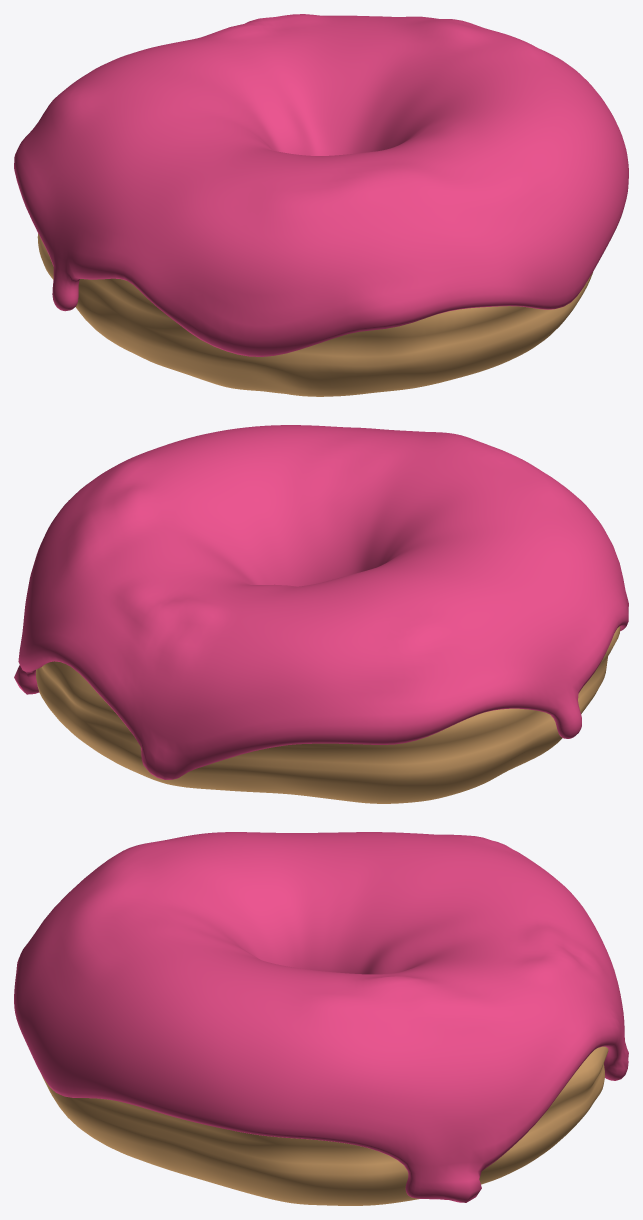
File: donut.fbx
The picture shows the model from 3 angles, top to bottom: view 1: azimuth 30°, elevation 25°; view 2: azimuth 150°, elevation 25°; view 3: azimuth 270°, elevation 25°; orthographic projection.
Visible parts, largest first — view 1: icing, Torus.001; view 2: icing, Torus.001; view 3: icing, Torus.001.
Part boxes in pixels (x1,y1,x2,y2): icing: (14, 14, 628, 356); Torus.001: (37, 233, 592, 396); icing: (14, 425, 628, 779); Torus.001: (35, 626, 620, 803); icing: (14, 832, 628, 1202); Torus.001: (42, 1046, 608, 1205).
Bounding box in the file's own units: 10.21 × 4.02 × 10.24.
